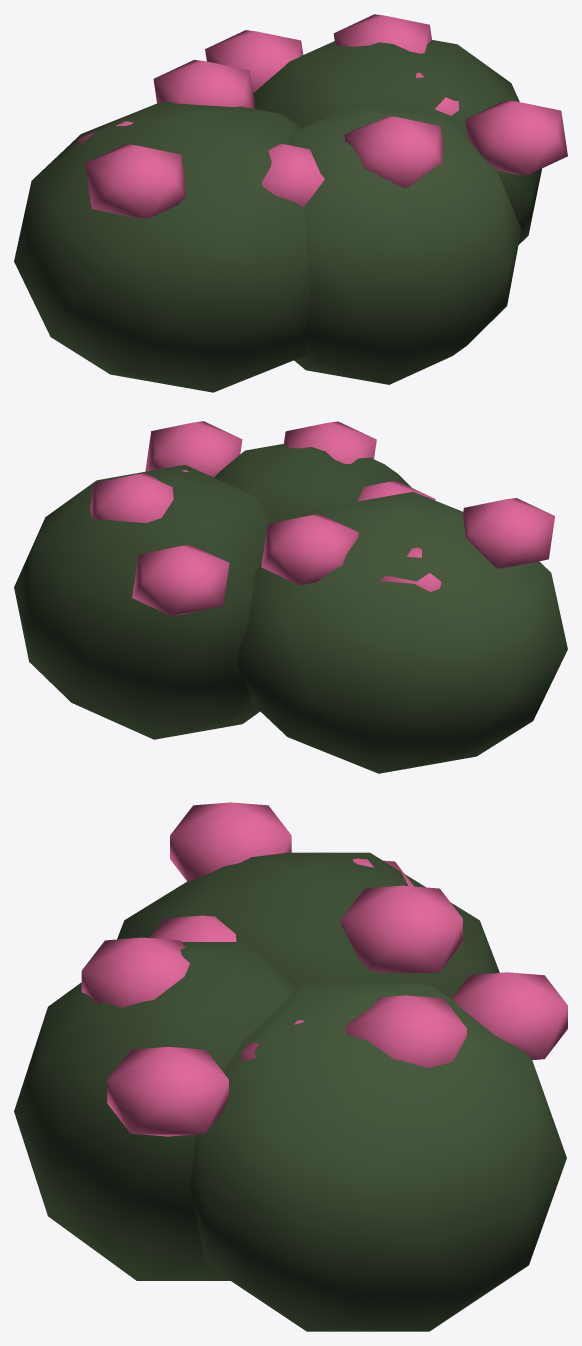
File: scatter3.fbx
The picture shows the model from 3 angles, top to bottom: view 1: azimuth 30°, elevation 25°; view 2: azimuth 150°, elevation 25°; view 3: azimuth 270°, elevation 25°; orthographic projection. The views are drawn at different scales.
Visible parts, largest first — view 1: a2000/0/scatter3; view 2: a2000/0/scatter3; view 3: a2000/0/scatter3.
Boxes of the visible parts, x1,y1,x2,y2 form: a2000/0/scatter3: (14,14,567,392); a2000/0/scatter3: (14,421,567,773); a2000/0/scatter3: (14,802,567,1331).
Size of the model in its own units: 1.31 by 0.67 by 1.01.
